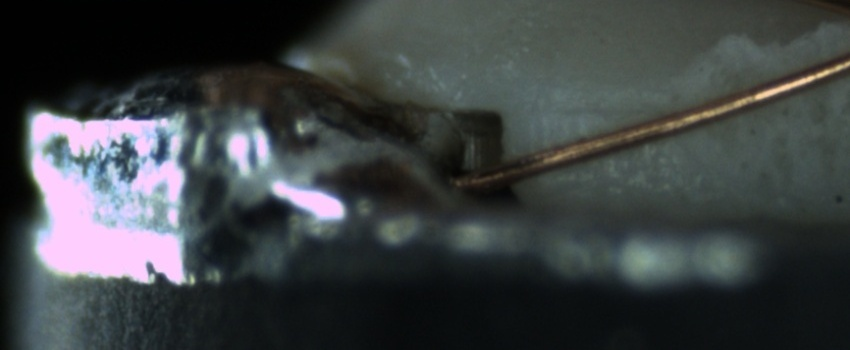DL: (533, 74, 669, 138)
